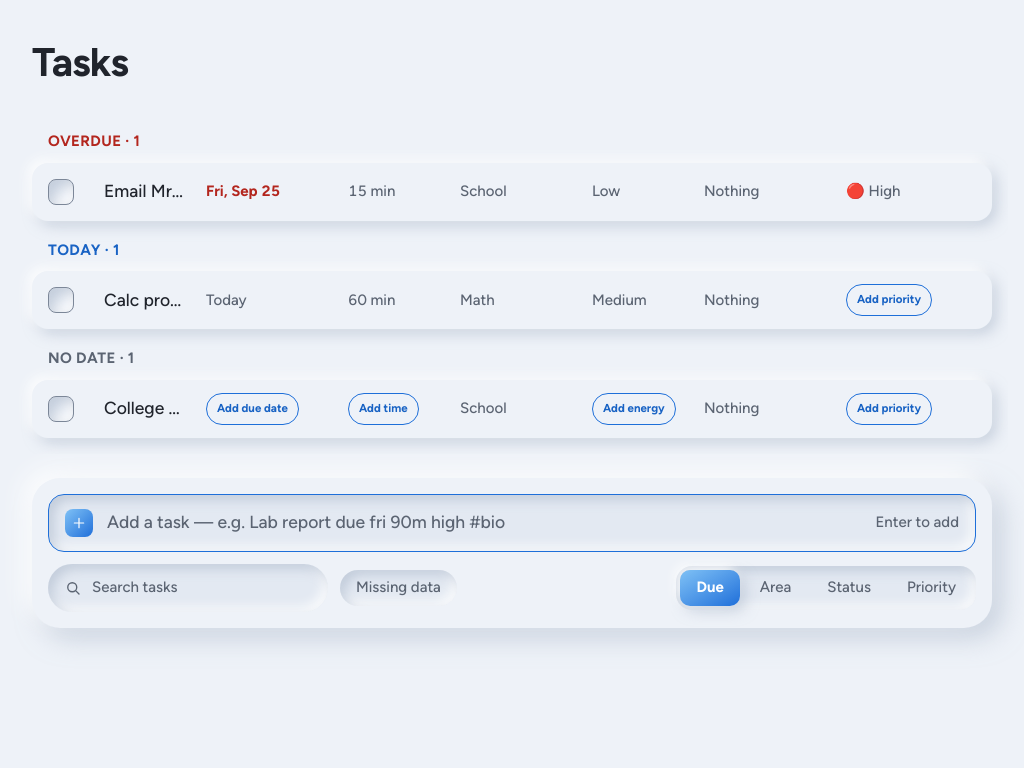
Test case: TasksPage › an inline Duration edit shows at once, writes through the field route, and reverts on failure
Expected: the text "Calc problem set 4" is shown, [104,287,186,313]
Click the button with aria-label "Duration for Calc problem set 4" at (398, 300), box [340,280,456,320]
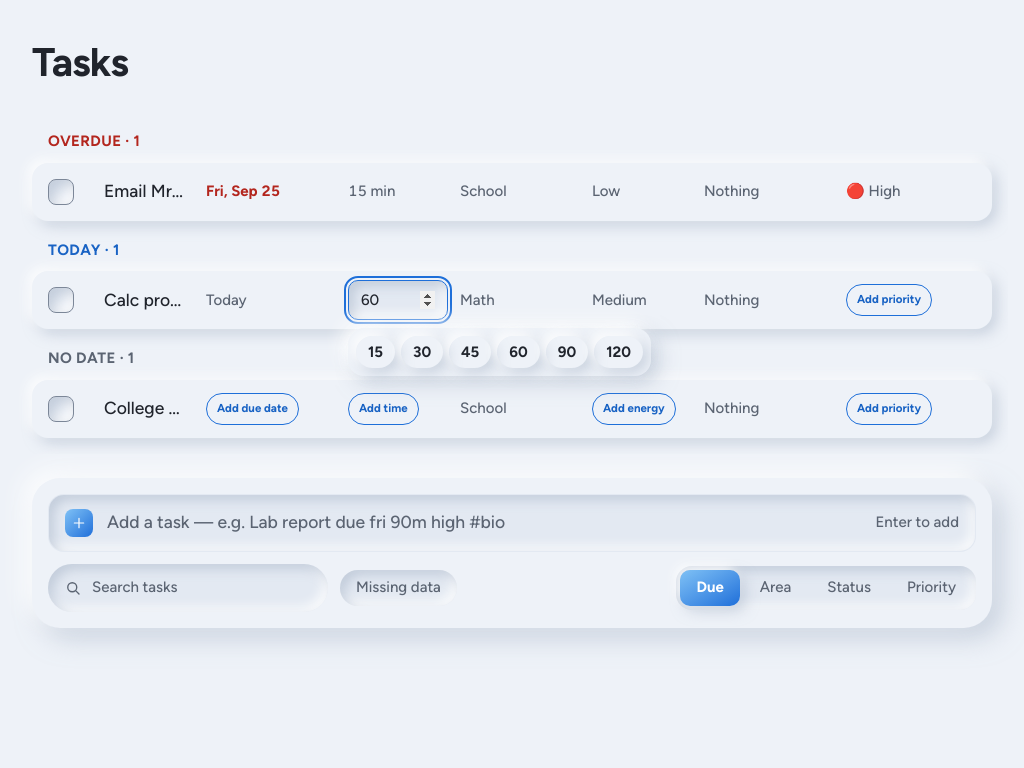
Replace the text in the number field named "Duration for Calc problem set 4" with "45" at (398, 300), box [348,280,448,320]
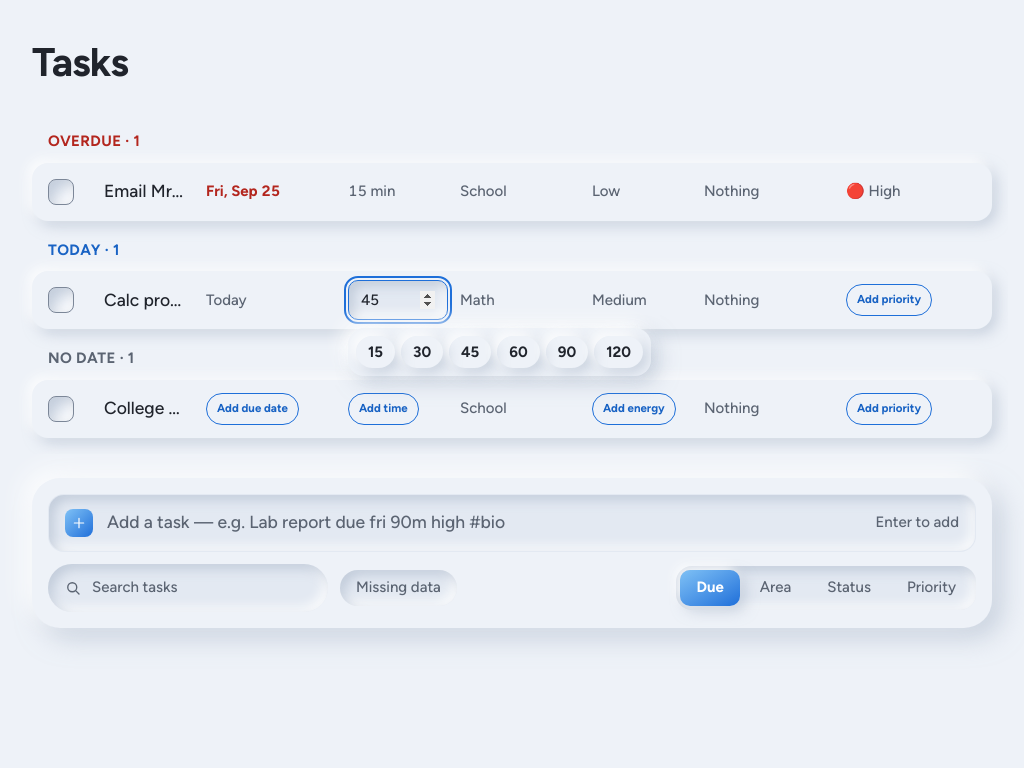
Press Enter in the number field named "Duration for Calc problem set 4", box [348,280,448,320]
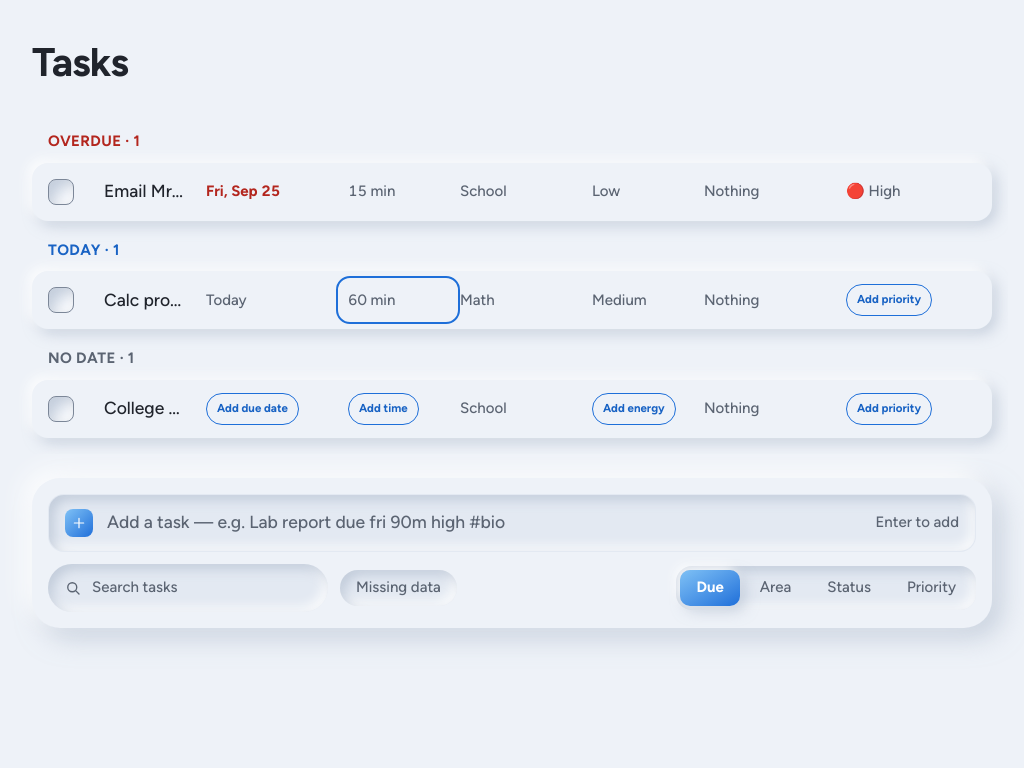
Result: the text "60 min" is shown at [348,289,395,311]
